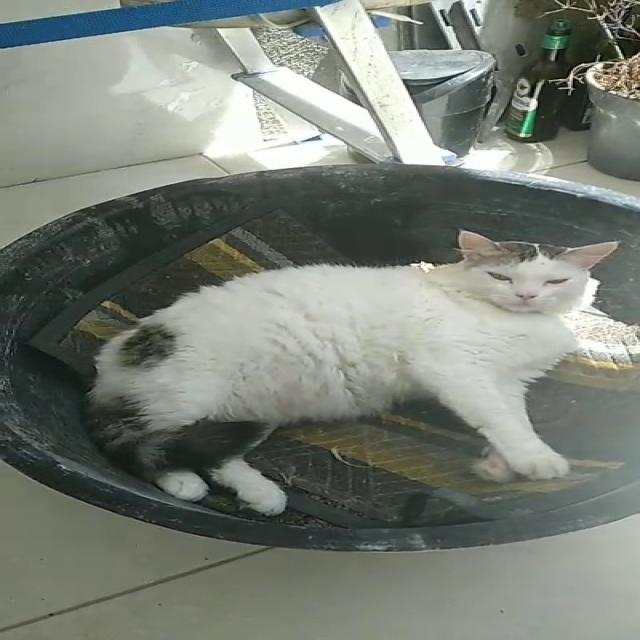Simba: (86, 205, 638, 516)
